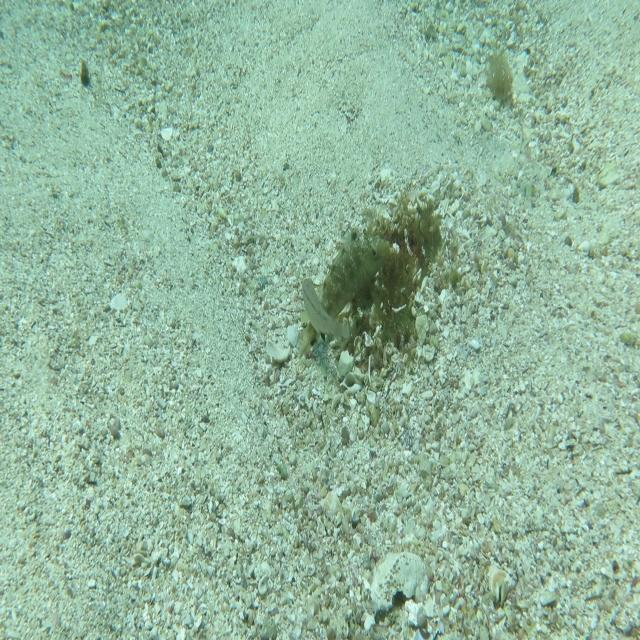LF: (296, 222, 391, 362)
female: (300, 276, 348, 346)
nest: (310, 171, 456, 382)
